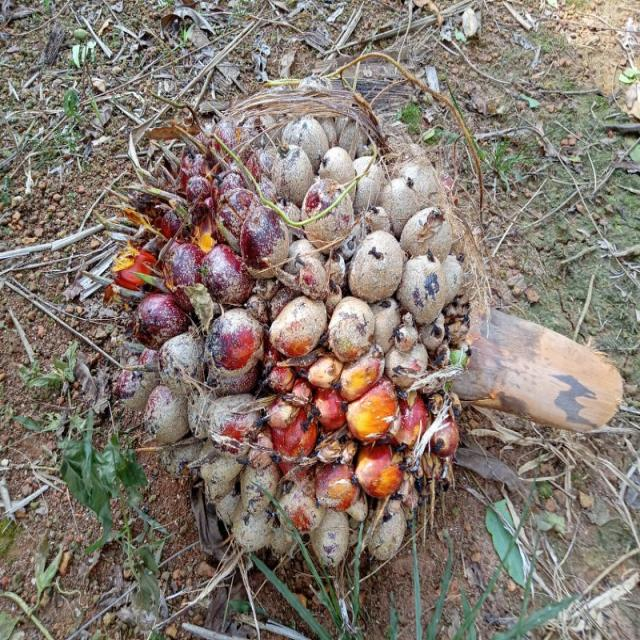fraksi 1: (52, 33, 540, 600)
